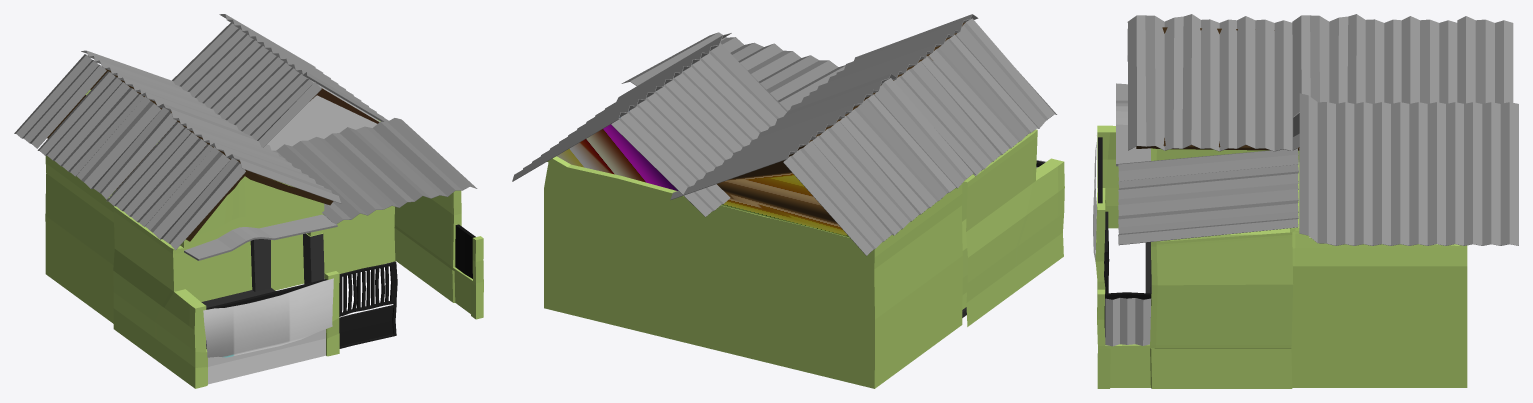
File: rumah kontrakan (1).fbx
3 views of the same model, side by side, from view 1: azimuth 30°, elevation 25°; view 2: azimuth 150°, elevation 25°; view 3: azimuth 270°, elevation 25° (orthographic). The views are drawn at different scales.
Parts seen in each view (by area): view 1: Cube.001, Cube.003, Cube.002; view 2: Cube.001; view 3: Cube.001, Cube.002.
Boxes of the visible parts, x1=… form: Cube.001: x1=14, y1=14, x2=483, y2=388; Cube.003: x1=203, y1=278, x2=333, y2=357; Cube.002: x1=339, y1=261, x2=397, y2=348; Cube.001: x1=512, y1=14, x2=1064, y2=388; Cube.001: x1=1095, y1=14, x2=1518, y2=388; Cube.002: x1=1104, y1=211, x2=1109, y2=293.
Size of the model in its own units: 872 by 562 by 889.
